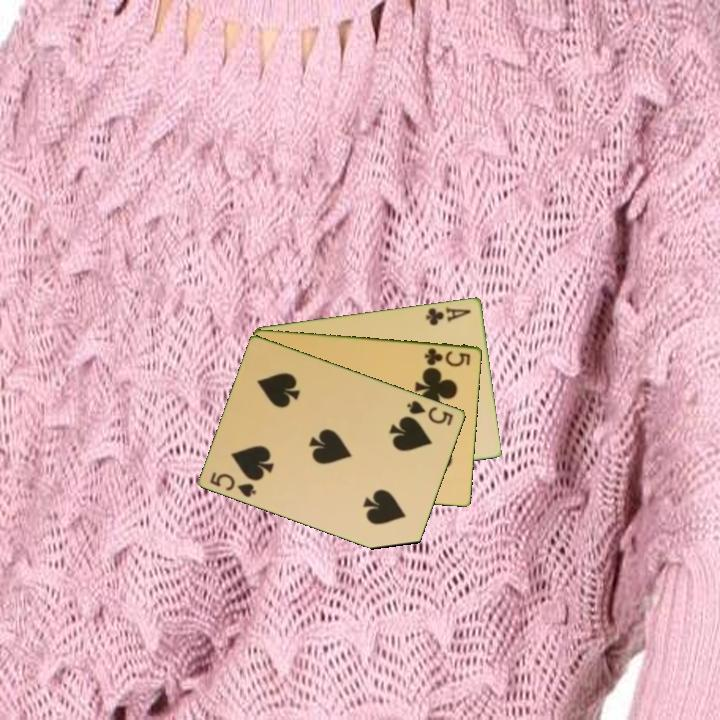5c: (421, 344, 473, 369)
5s: (207, 468, 260, 500), (404, 397, 456, 428)
Ac: (422, 303, 474, 328)
